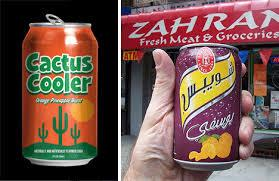Aluminum can: (20, 10, 103, 177), (169, 37, 240, 173)
